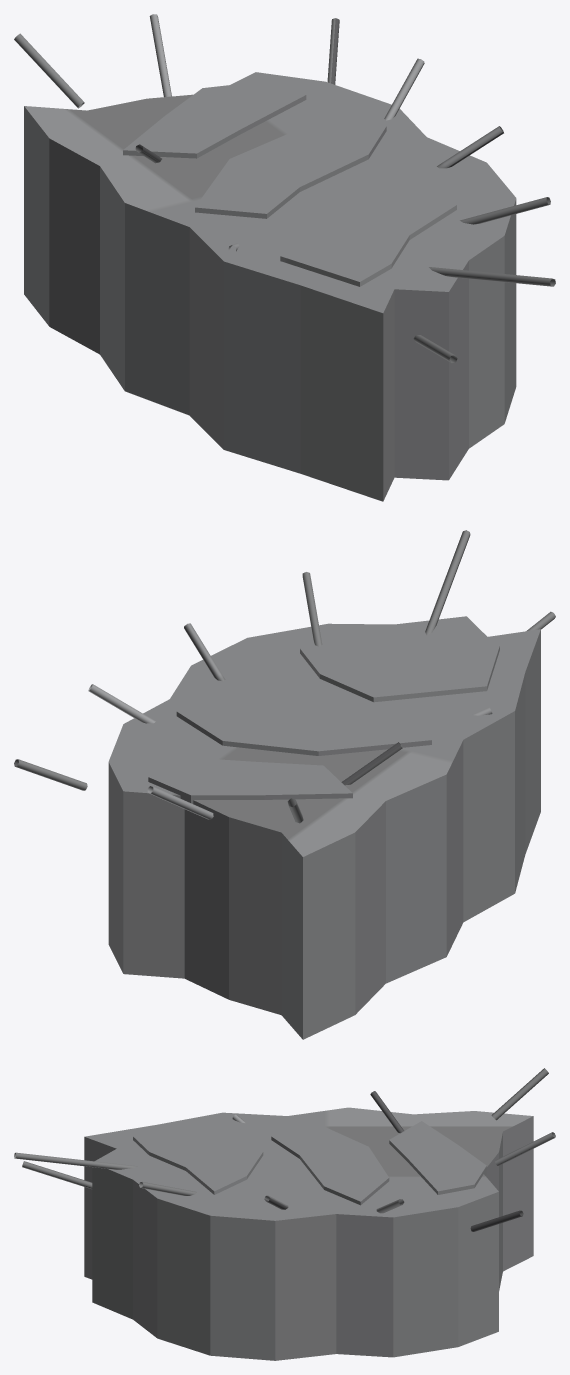
The picture shows the model from 3 angles, top to bottom: view 1: azimuth 30°, elevation 25°; view 2: azimuth 150°, elevation 25°; view 3: azimuth 270°, elevation 25°; orthographic projection. The views are drawn at different scales.
Bounding box in the file's own units: 0.5996 × 0.4356 × 1.13.
